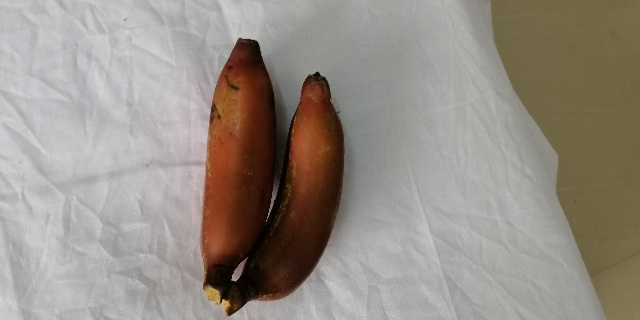banana_red: (229, 72, 345, 310), (201, 31, 268, 301)
